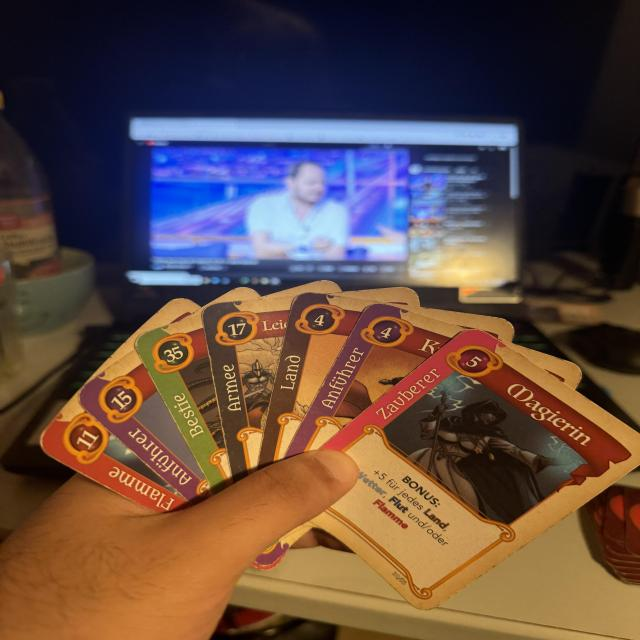Basilisk: (136, 313, 231, 492)
Earth Elemental: (258, 292, 369, 470)
Elemental Enchantress: (310, 326, 640, 614)
Empress: (80, 349, 215, 506)
Light Cavalry: (203, 298, 292, 481)
Lightning: (37, 395, 192, 515)
Warlord: (284, 304, 464, 455)
